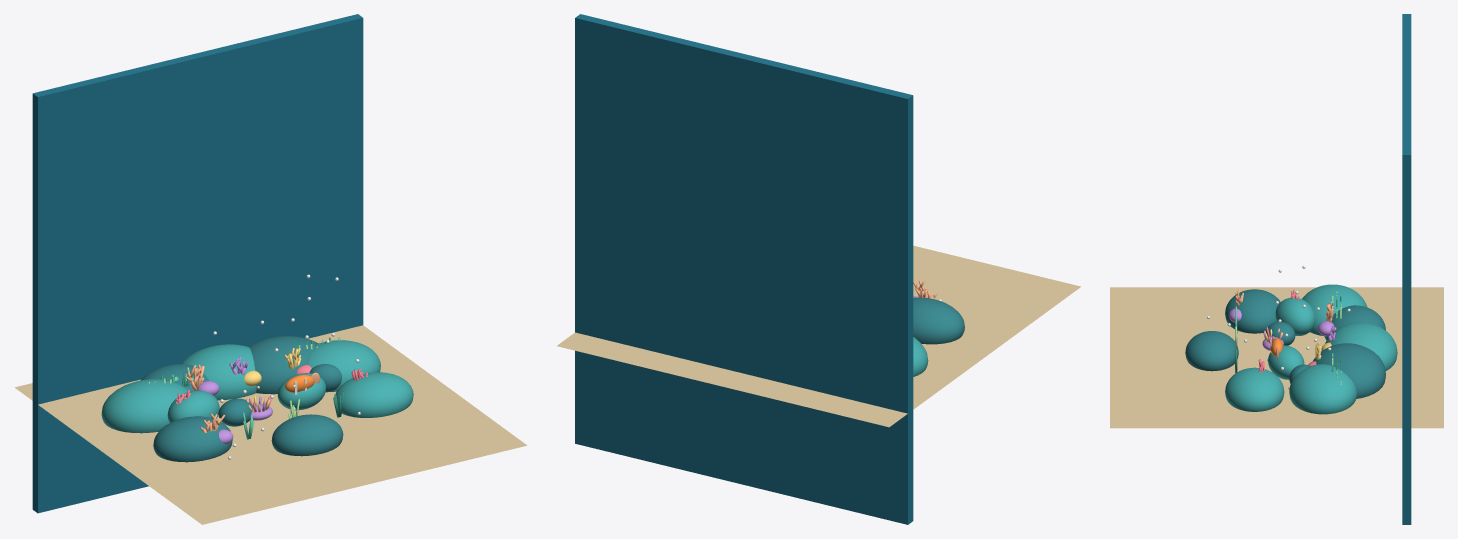
Rendered from coral_cove_environment.glb.
3 views of the same model, side by side, from view 1: azimuth 30°, elevation 25°; view 2: azimuth 150°, elevation 25°; view 3: azimuth 270°, elevation 25° (orthographic). The views are drawn at different scales.
Visible parts, largest first — view 1: Ocean distance, Sandy seabed, Reef foundation, Reef foundation.006, Reef foundation.005, Reef foundation.002, Reef foundation.007, Reef foundation.003, Reef foundation.004, Foreground reef stone, Foreground reef stone.002, Foreground reef stone.001 (+1 smaller); view 2: Ocean distance, Sandy seabed, Reef foundation.005; view 3: Sandy seabed, Ocean distance, Reef foundation.004, Reef foundation.003, Reef foundation.006, Reef foundation.007, Reef foundation.005, Reef foundation.002, Reef foundation, Foreground reef stone, Reef foundation.001, Foreground reef stone.002 (+1 smaller).
Boxes of the visible parts, bbox=[...] form: Ocean distance: bbox=[32, 14, 363, 513]; Sandy seabed: bbox=[14, 325, 527, 524]; Reef foundation: bbox=[101, 379, 187, 433]; Reef foundation.006: bbox=[336, 372, 413, 417]; Reef foundation.005: bbox=[153, 416, 232, 462]; Reef foundation.002: bbox=[181, 344, 256, 400]; Reef foundation.007: bbox=[271, 414, 343, 456]; Reef foundation.003: bbox=[248, 336, 318, 394]; Reef foundation.004: bbox=[308, 340, 380, 391]; Foreground reef stone: bbox=[167, 390, 219, 422]; Foreground reef stone.002: bbox=[277, 373, 325, 410]; Foreground reef stone.001: bbox=[218, 398, 253, 426]; Ocean distance: bbox=[575, 14, 913, 524]; Sandy seabed: bbox=[557, 245, 1080, 427]; Reef foundation.005: bbox=[913, 297, 964, 344]; Sandy seabed: bbox=[1110, 287, 1443, 428]; Ocean distance: bbox=[1402, 14, 1411, 524]; Reef foundation.004: bbox=[1289, 364, 1356, 414]; Reef foundation.003: bbox=[1312, 343, 1385, 398]; Reef foundation.006: bbox=[1225, 367, 1284, 411]; Reef foundation.007: bbox=[1185, 331, 1238, 371]; Reef foundation.005: bbox=[1225, 289, 1280, 333]; Reef foundation.002: bbox=[1325, 322, 1397, 370]; Reef foundation: bbox=[1302, 284, 1367, 336]; Foreground reef stone: bbox=[1275, 297, 1314, 335]; Reef foundation.001: bbox=[1324, 305, 1385, 340]; Foreground reef stone.002: bbox=[1268, 345, 1304, 379].
Size of the model in its own units: 18 by 22 by 18.
